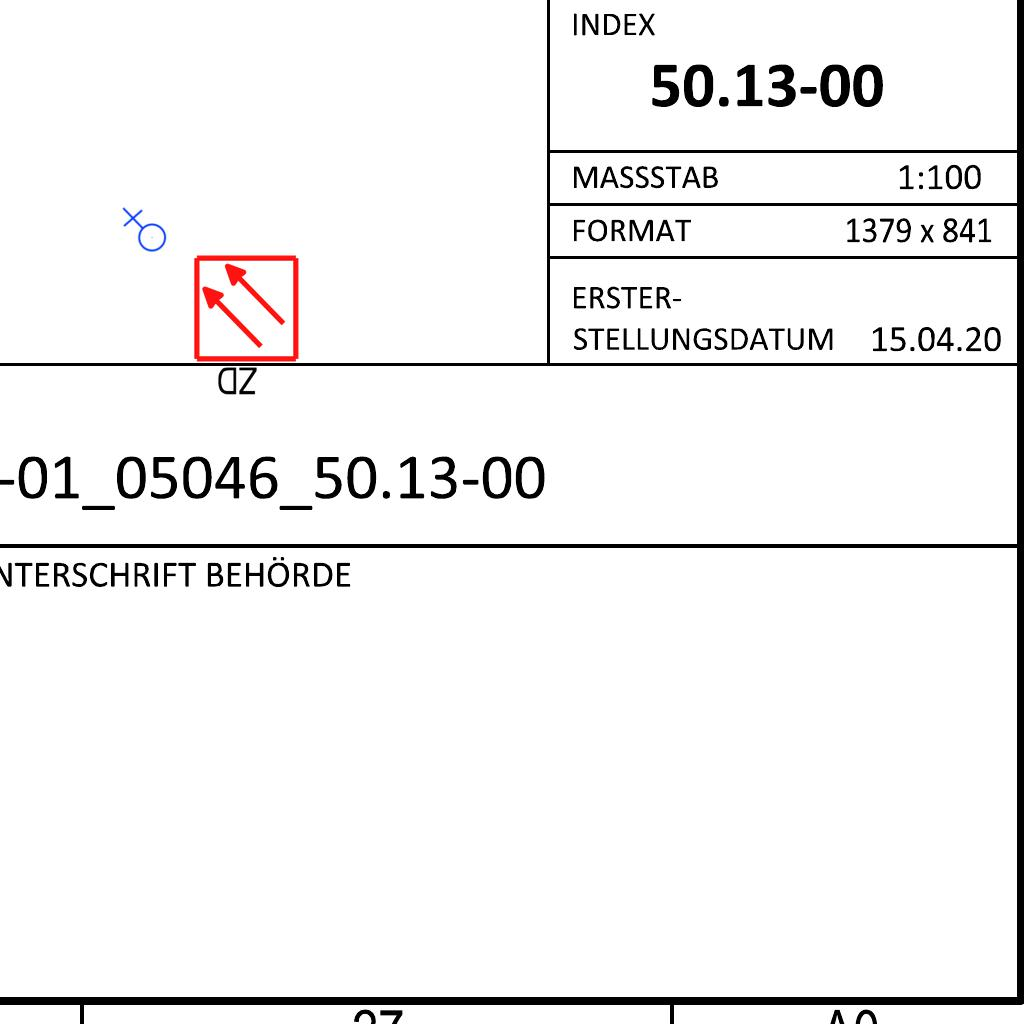Elektroanschluss_allgemein_230V_Geraeteanschlussdose_230V: (120, 207, 167, 256)
ZD_Melder_in_Zwischendecke_mit_Revisionsoeffnung_mind_40_x_40_cm: (191, 253, 305, 402)
